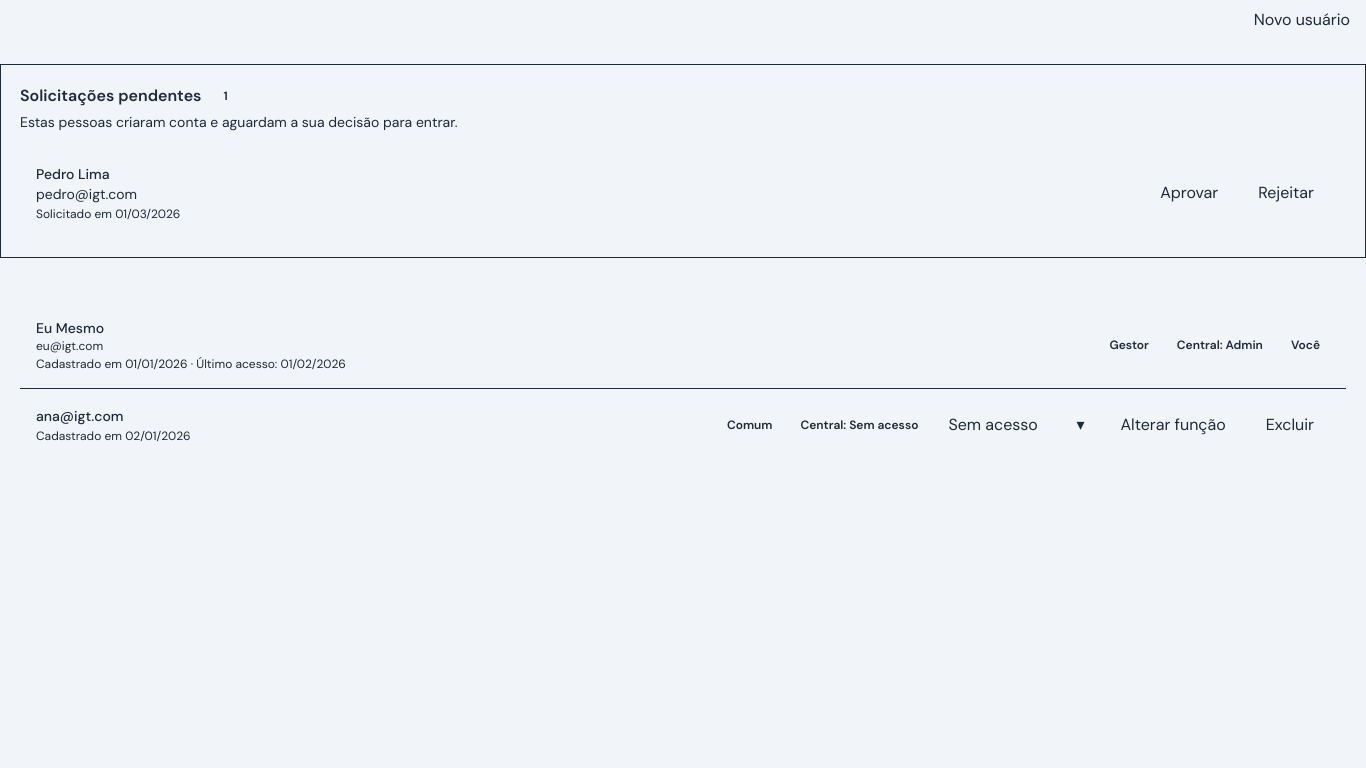
Test: Usuários e acessos › erro ao criar usuário aparece no diálogo
Check: the list named "Usuários com acesso" is shown, box [20,302,1346,461]
Click the button "Novo usuário": (1302, 20) [1238,0,1365,40]
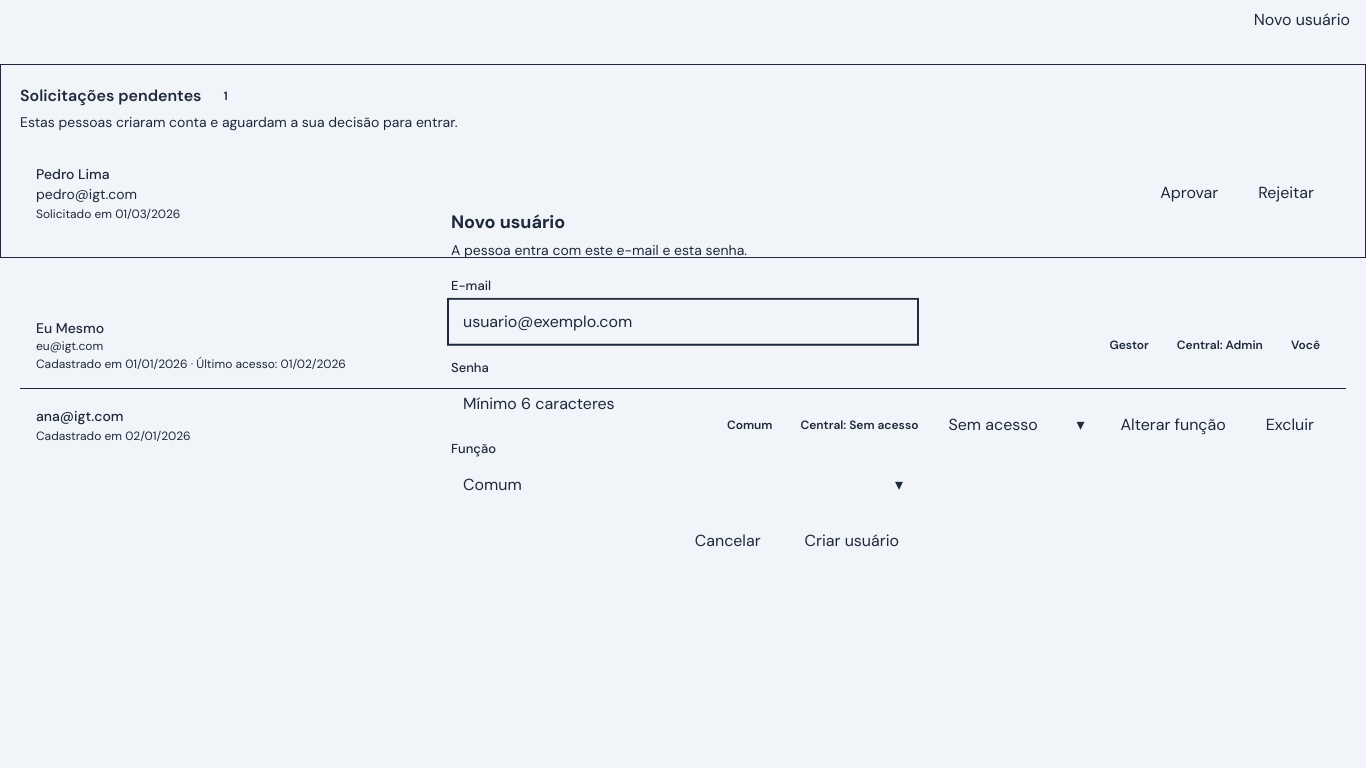
In the field labelled "E-mail": (683, 321) [451,301,915,341], type "a@b.com"
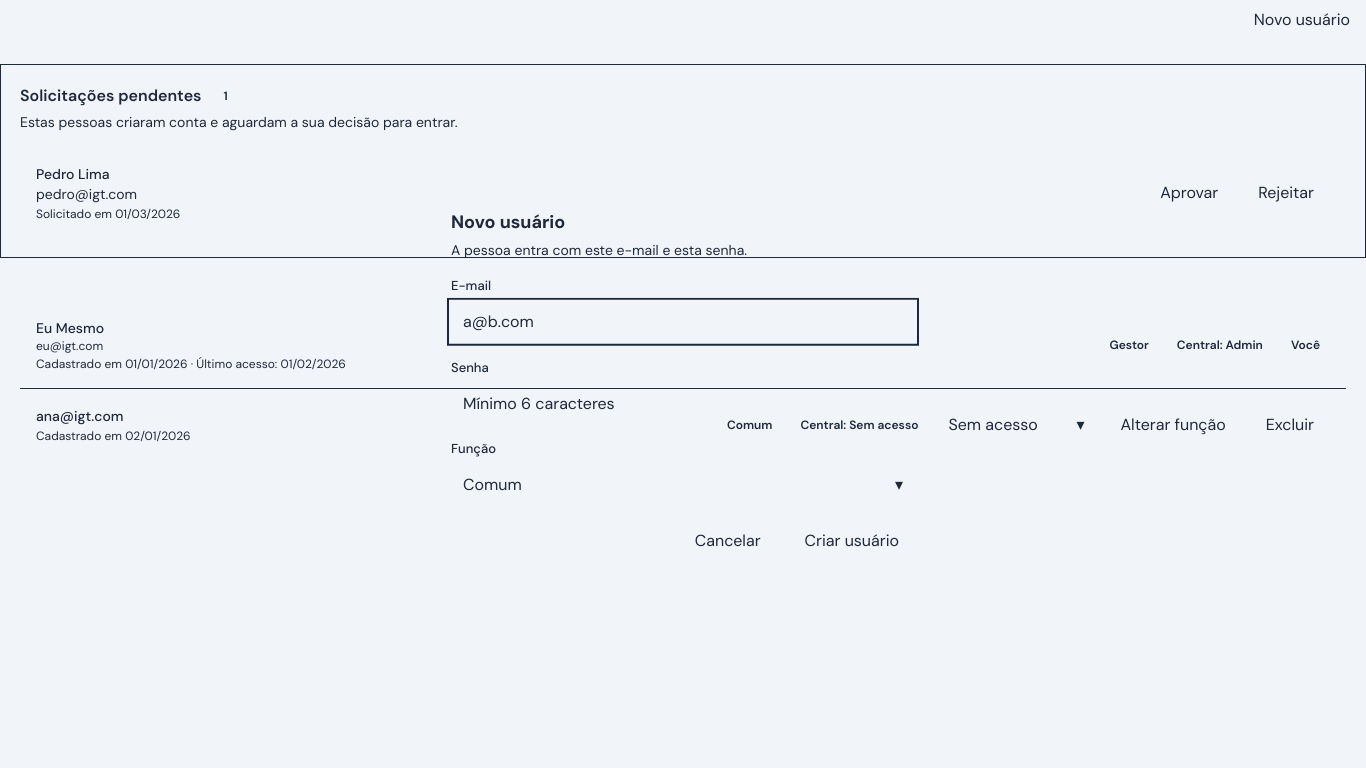
In the password field labelled "Senha": (683, 403) [451,383,915,423], type "123456"
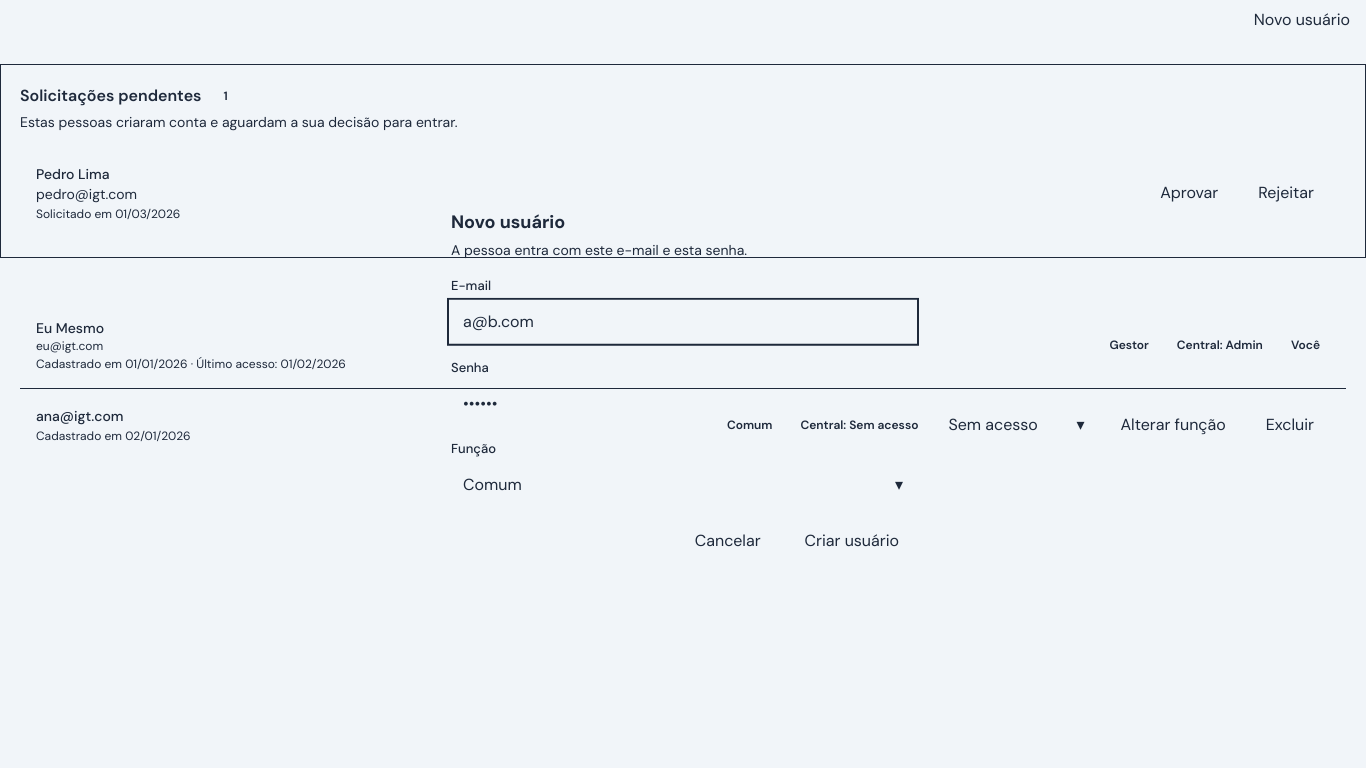
Click the button "Criar usuário": (852, 540) [789,520,915,560]
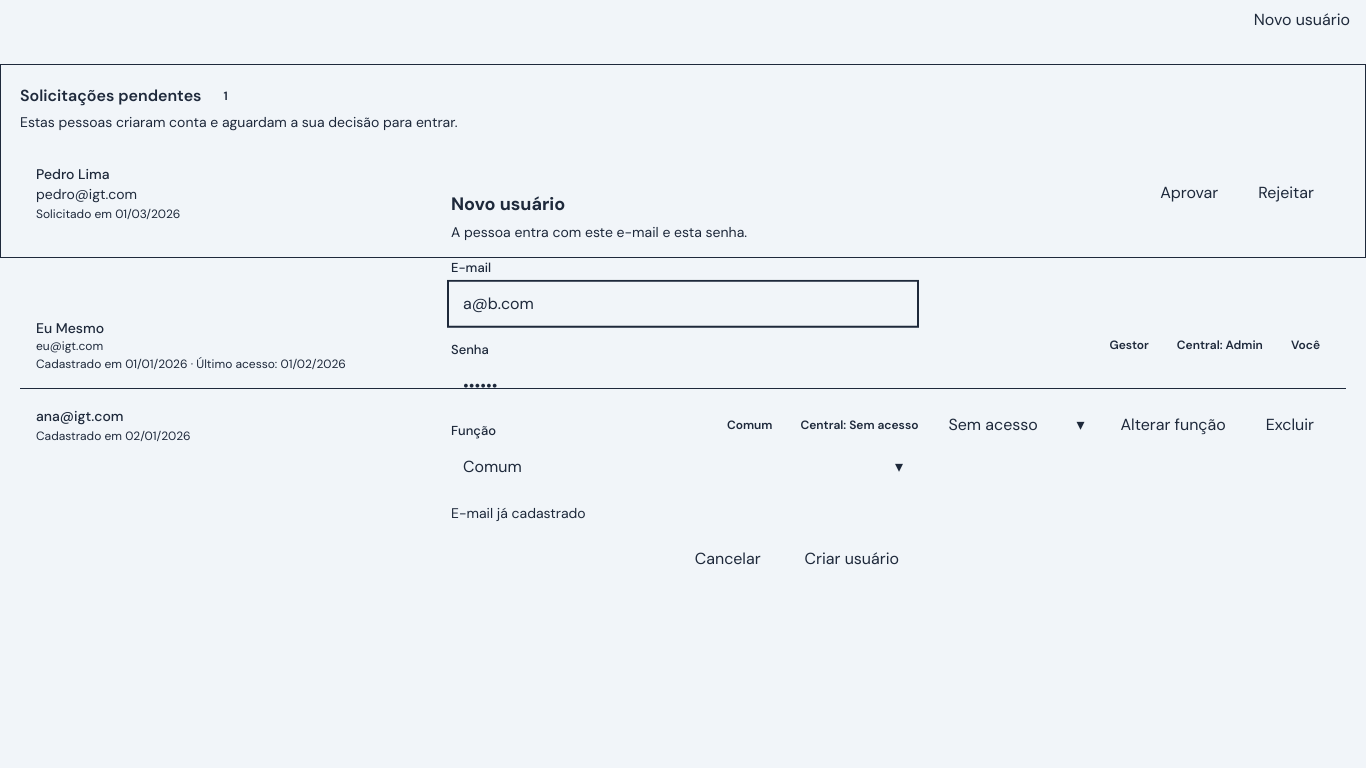
Check: the message reads "E-mail já cadastrado", box [451,503,586,521]
